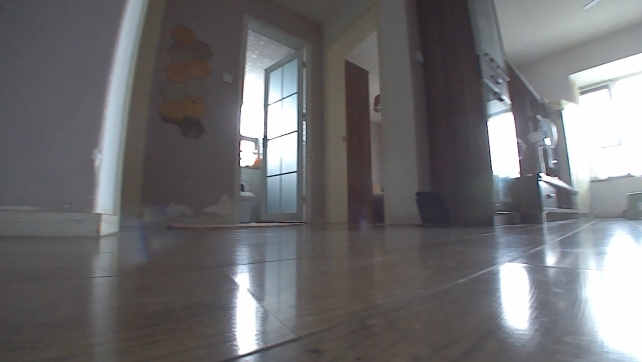TV_stand: (523, 171, 579, 225)
blanket: (165, 220, 305, 230)
door_anno: (258, 47, 313, 231)
